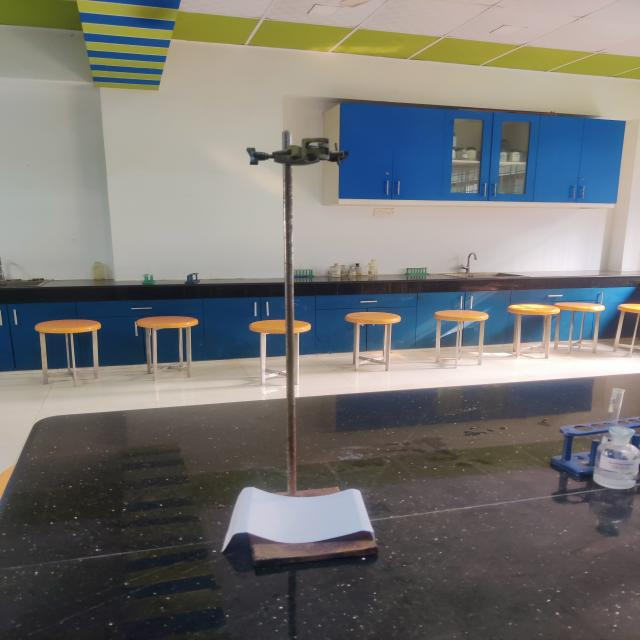Burette_Stands: (192, 100, 422, 592)
